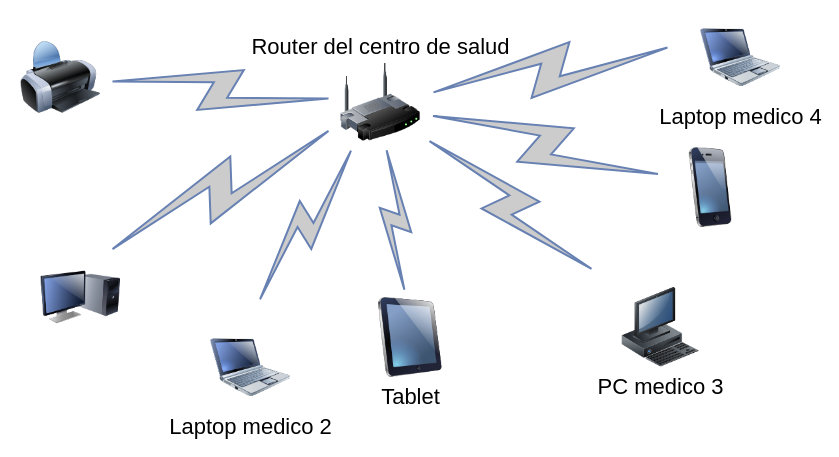
Some shapes in this 839 by 457 pixel diagram are drawn without their labels. The centre of each missing label's shape, as x and y in pixels:
Mobile: the point at 710,187
PC medico 1: the point at 80,297
Printer: the point at 60,77
